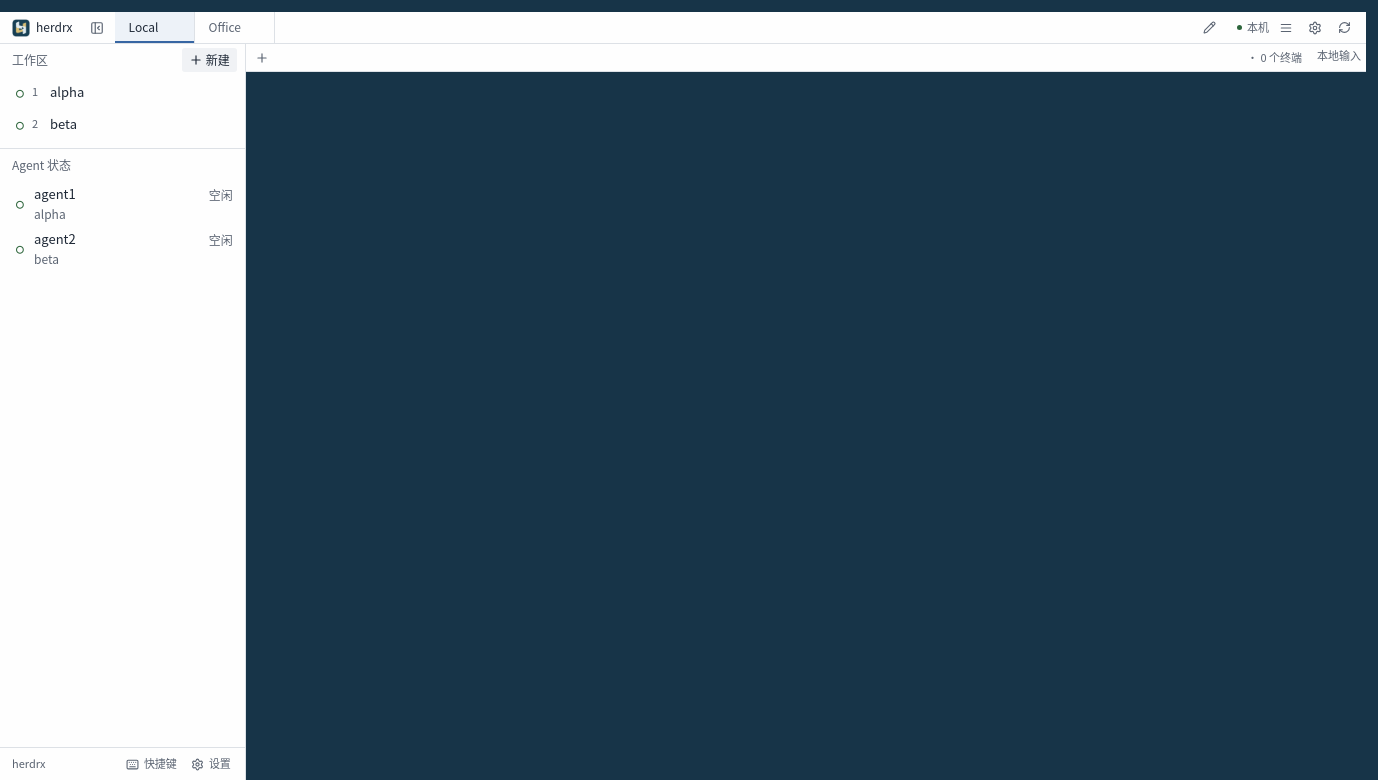
Test: workbench sidebar context menus › keeps the workspace row menu instead of replacing it with the sidebar fallback
Expected: the button "○ agent1 alpha 空闲" is shown, 6,181 -> 239,226
Right-click the text "alpha" below "工作区" at (67, 91), box 50,82 -> 84,101
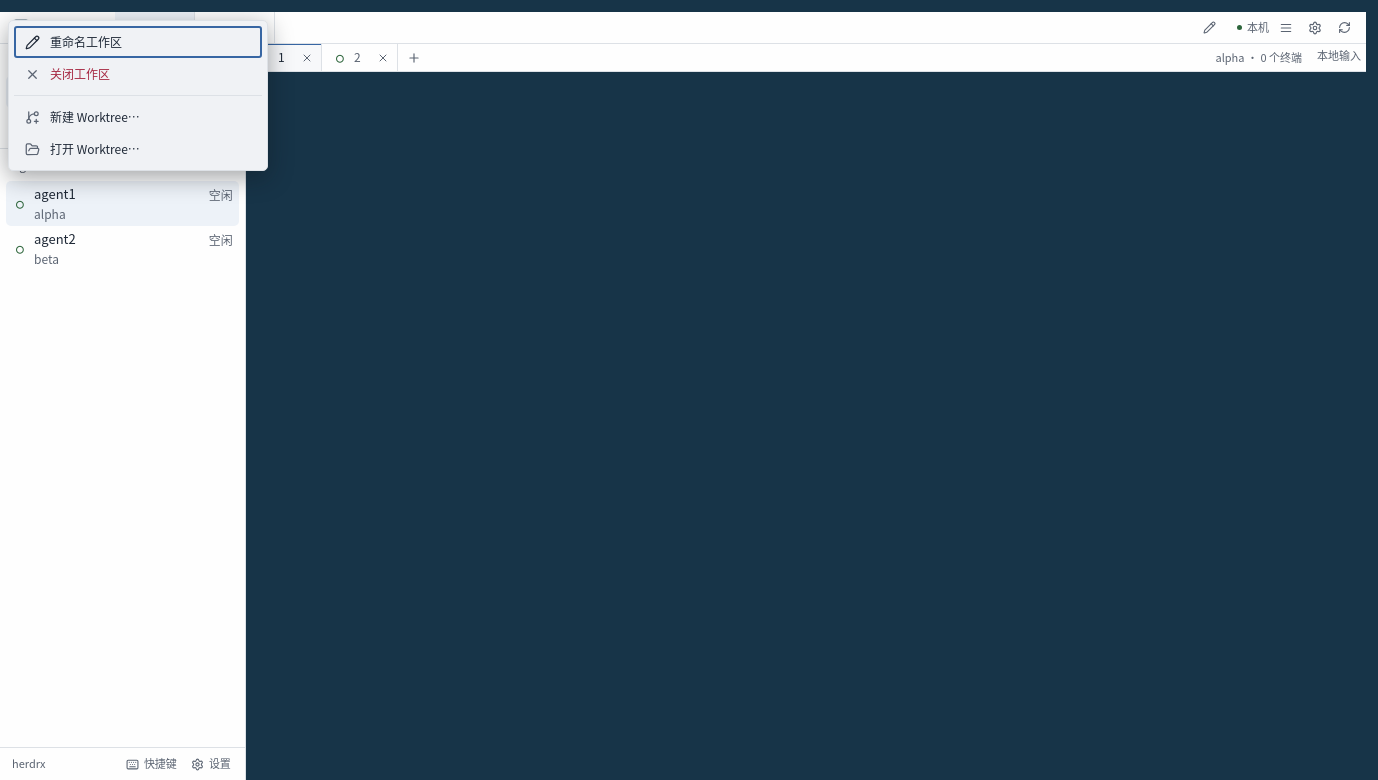
Result: the menu named "工作区右键菜单" is shown at 8,20 -> 268,171
Result: the menu item "重命名工作区" is shown at 14,26 -> 262,58
